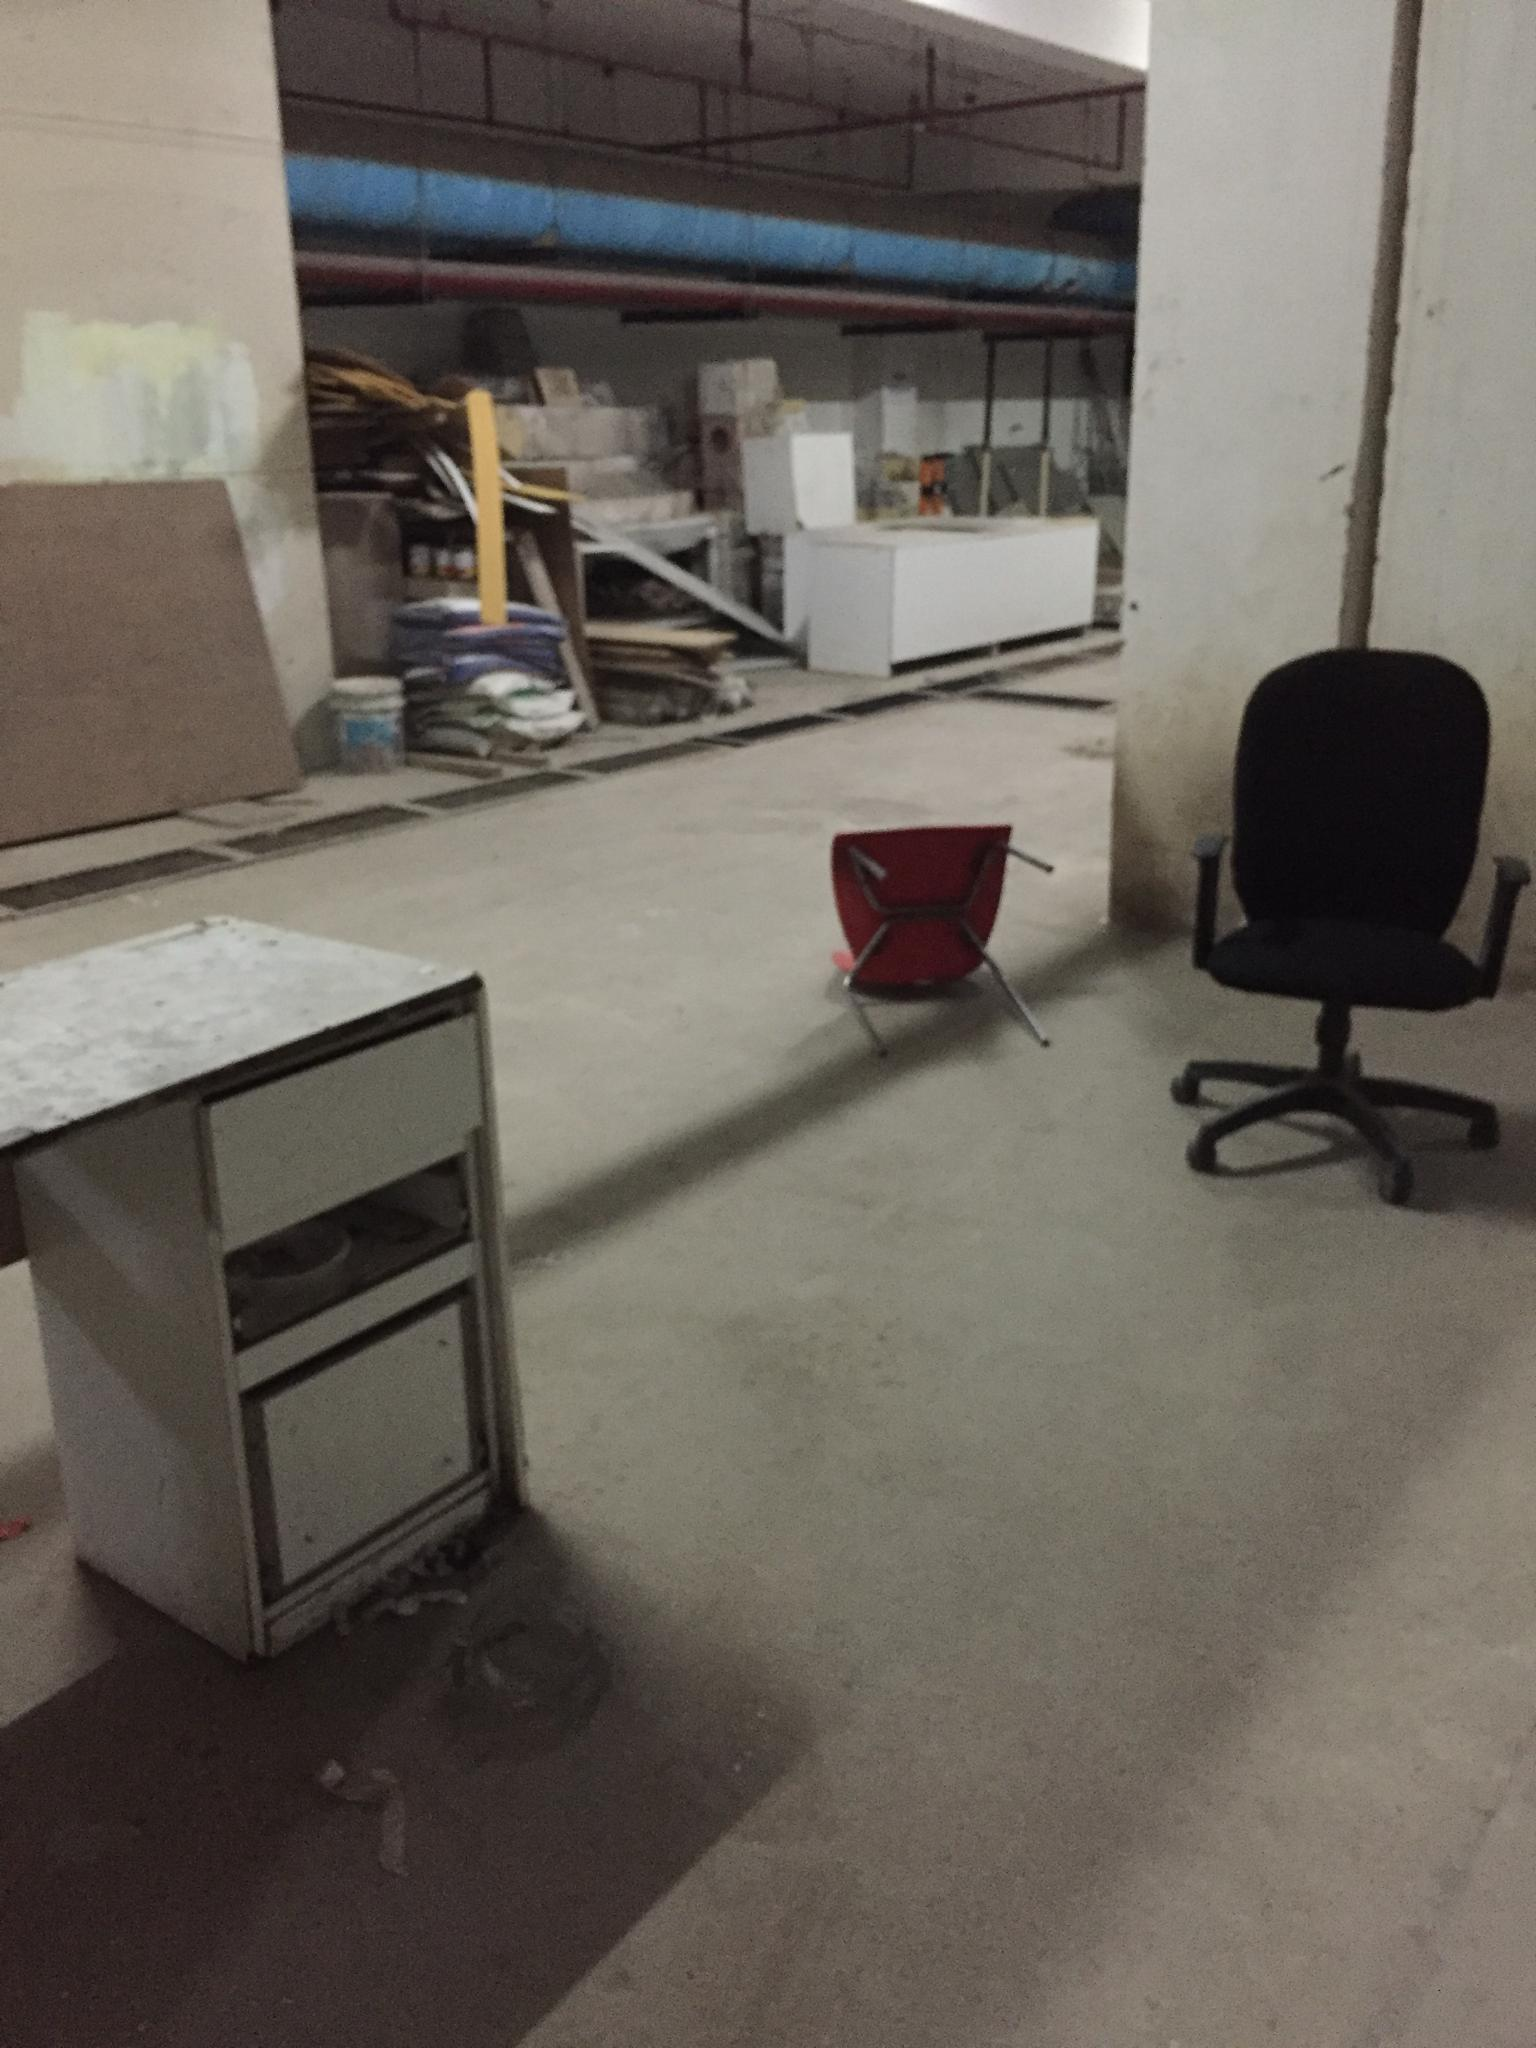chair: (1170, 645, 1531, 1205), (828, 821, 1055, 1056)
